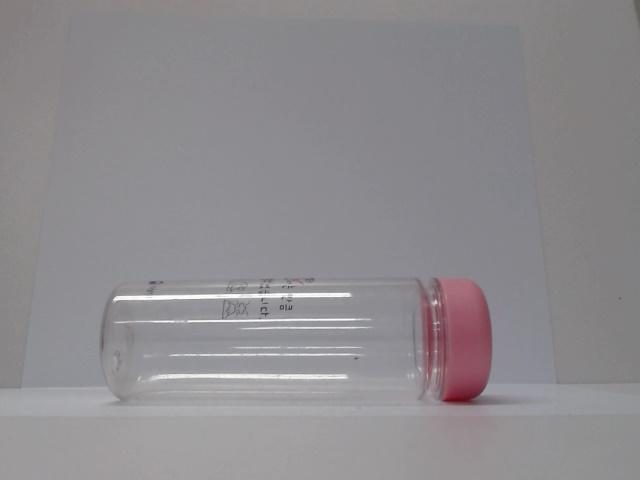bottle: (97, 267, 497, 417)
